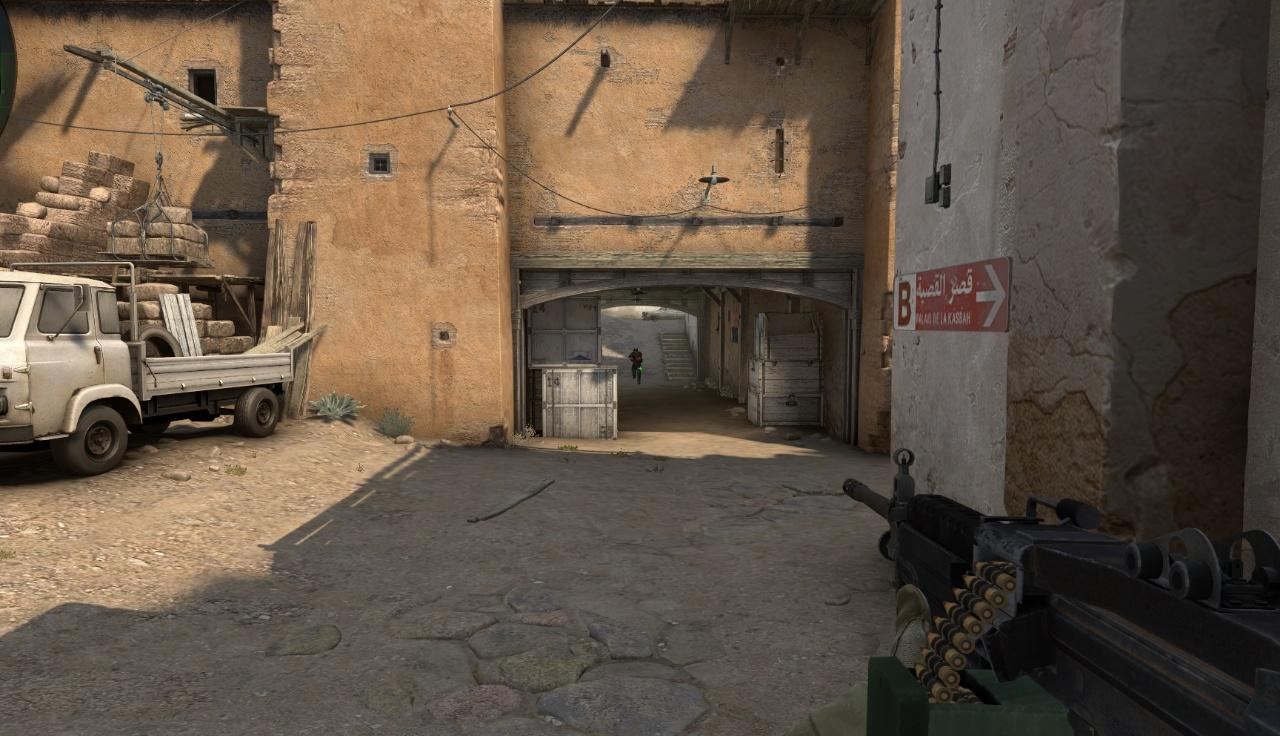rifle: (821, 449, 1280, 736)
tt: (628, 348, 643, 385)
tthead: (634, 348, 638, 354)
